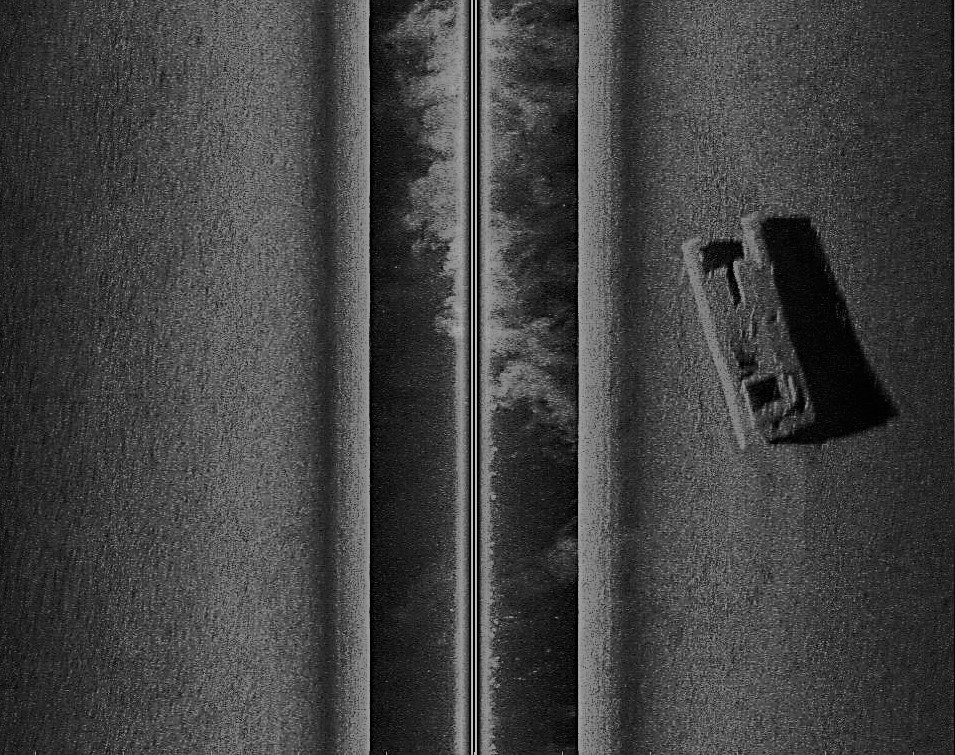ship: (679, 211, 816, 446)
